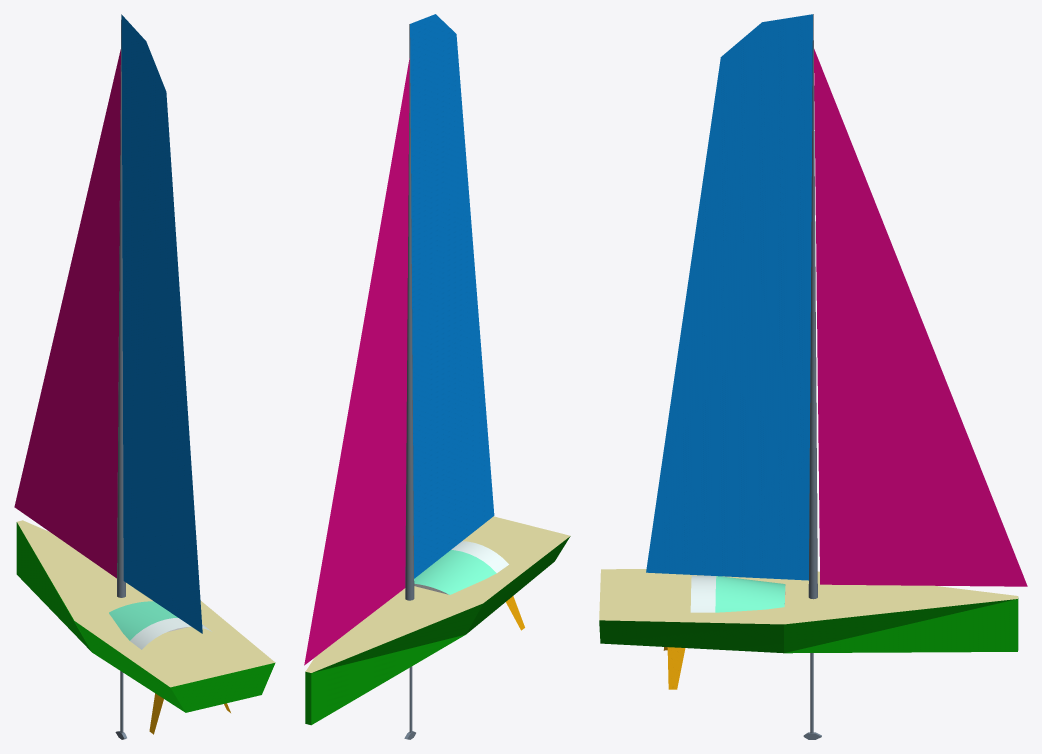
Rendered from RKN_GENOIS.dae.
The picture shows the model from 3 angles, left to right: view 1: azimuth 30°, elevation 25°; view 2: azimuth 150°, elevation 25°; view 3: azimuth 270°, elevation 25°; orthographic projection.
Visible parts, largest first — view 1: Model; view 2: Model; view 3: Model.
Part boxes in pixels (x1,y1,x2,y2): Model: (14,14,275,739); Model: (304,14,570,739); Model: (599,14,1027,739).
Bounding box in the file's own units: 57994 × 184525 × 344489.
